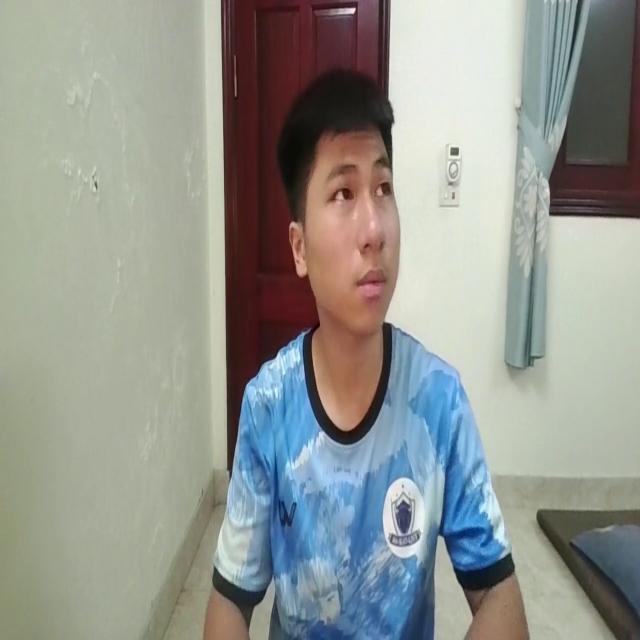student: (192, 58, 534, 640)
